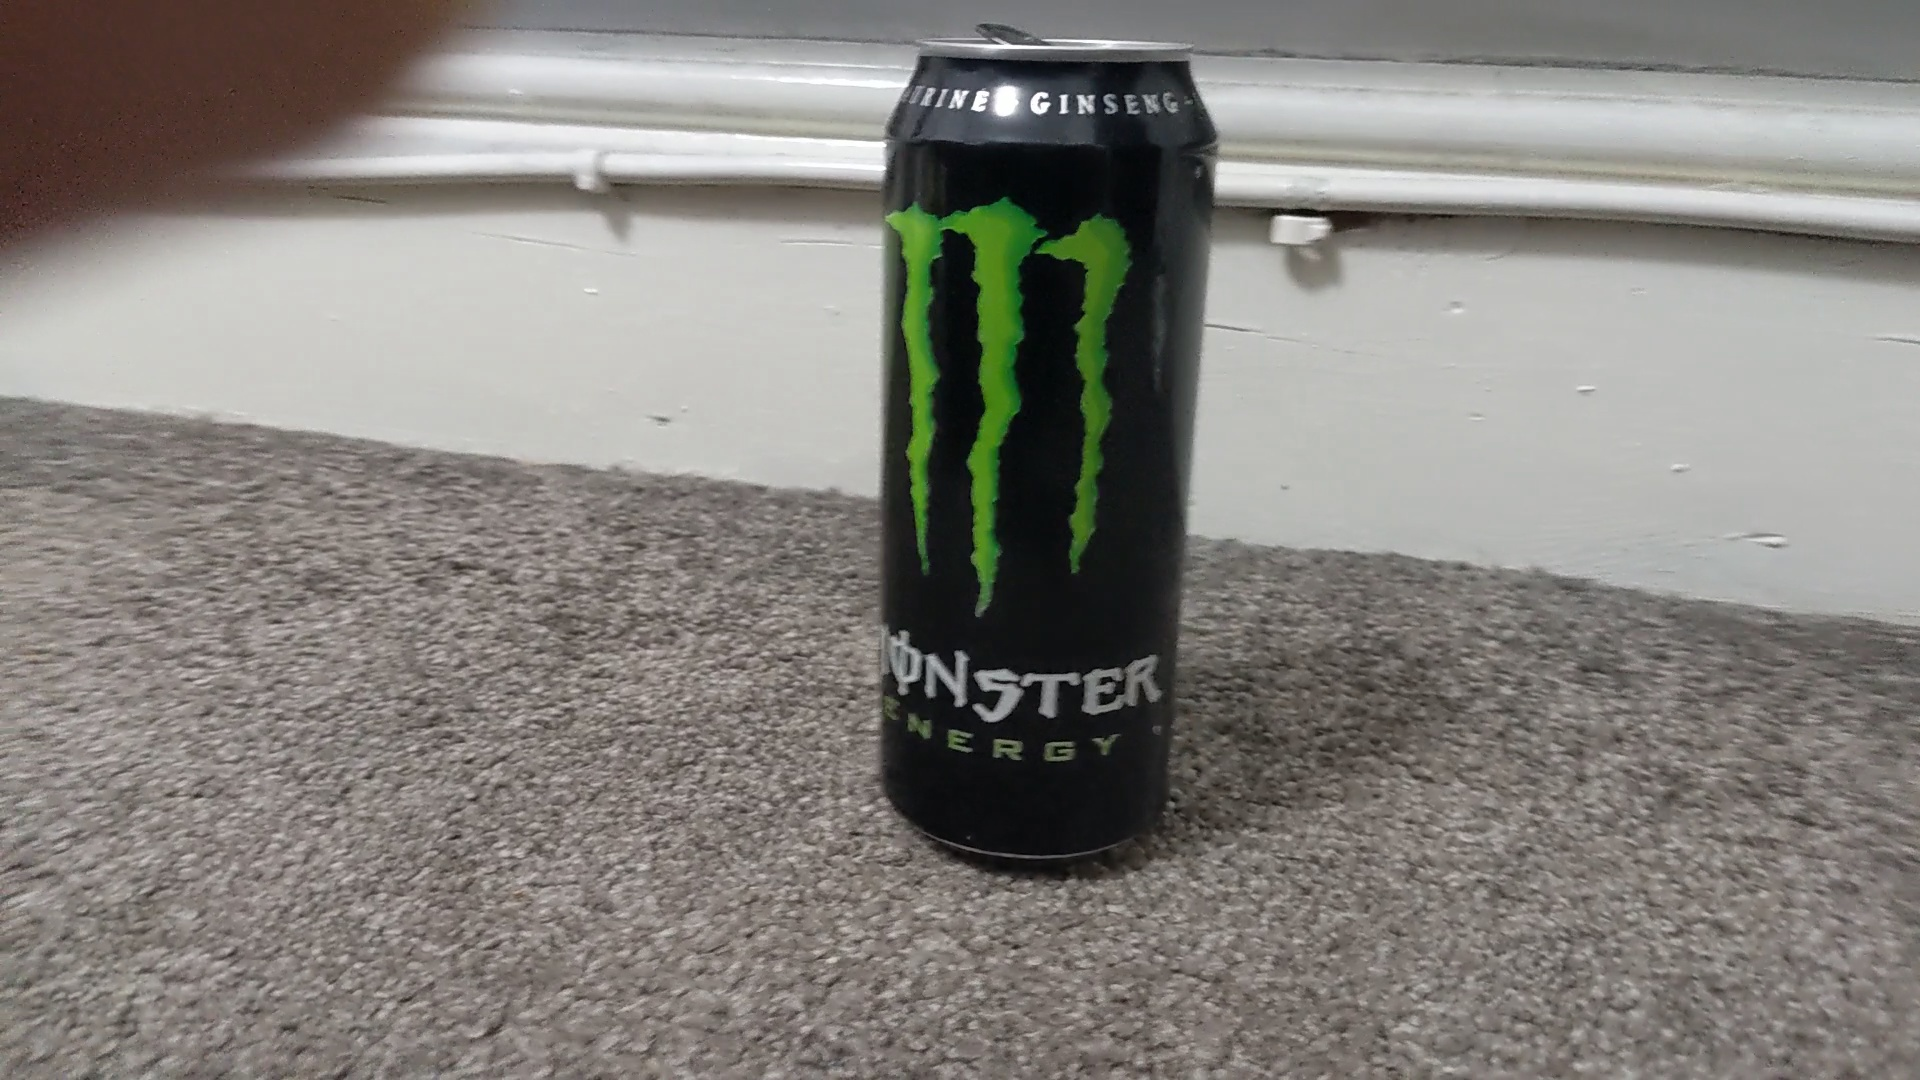monster-original: (880, 37, 1218, 860)
